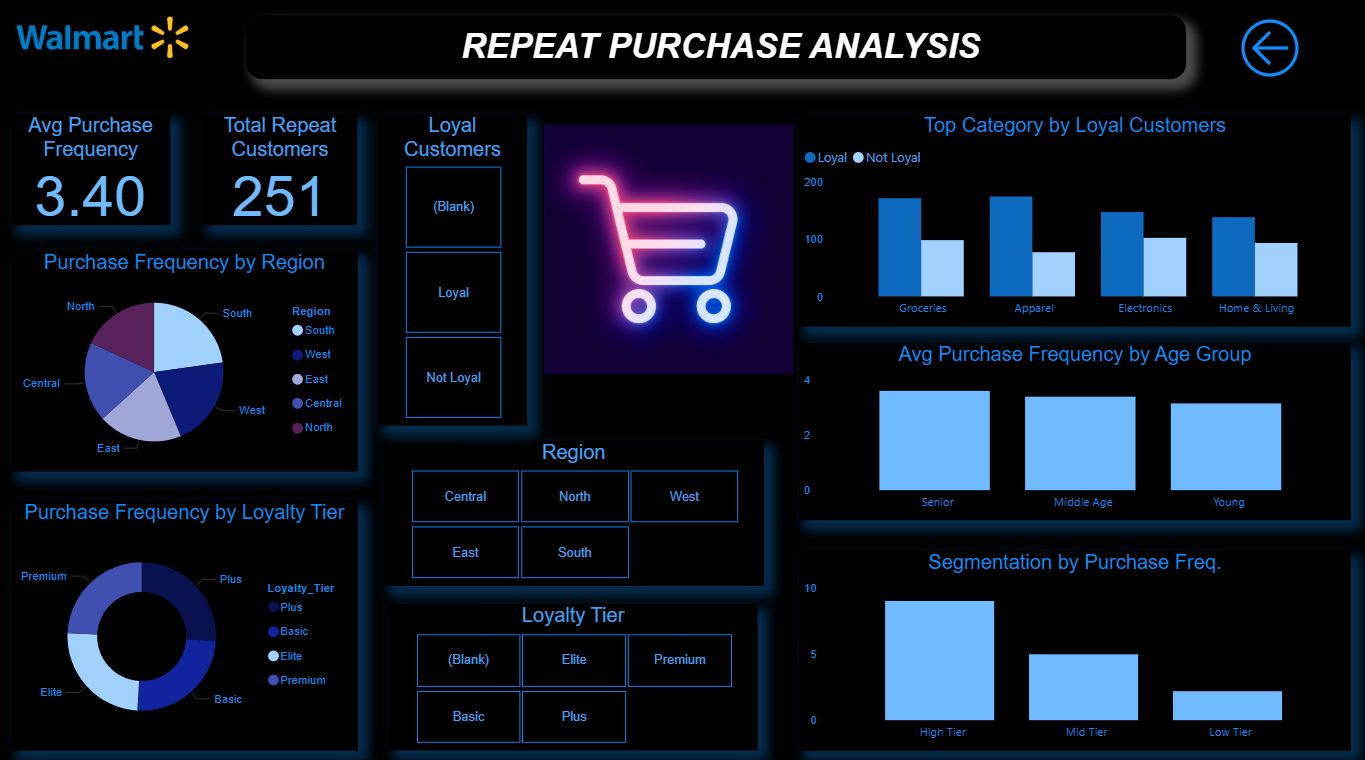

What the dashboard file says about the page in this screenshot:
{"tool":"powerbi","page":{"name":"Repeat  Purchase Analysis","canvas":[1280,720],"ordinal":2},"visuals":[{"type":"image","box":[15.1,11.6,169.8,59.3],"z":0},{"type":"actionButton","box":[1152.3,17.4,75.6,67.4],"z":1000},{"type":"image","box":[505.8,112.8,241.9,251.2],"z":2000},{"type":"pieChart","title":"Purchase Frequency by Region","fields":{"Y":["Calculation Store.Avg_Purchase_frequency"],"Category":["Store_Locations.Region"]},"box":[15.1,239.5,322.1,205.8],"z":3000},{"type":"clusteredColumnChart","title":"Avg Purchase Frequency by Age Group","fields":{"Y":["Calculation Store.Avg_Purchase_frequency"],"Category":["Customer_Demographics.Age Group "]},"box":[747.7,325.6,514,165.1],"z":4000},{"type":"donutChart","title":" Purchase Frequency by Loyalty Tier ","fields":{"Category":["Loyalty_Program.Loyalty_Tier"],"Y":["Calculation Store.Avg_Purchase_frequency"]},"box":[15.1,472.1,322.1,232.6],"z":5000},{"type":"clusteredColumnChart","title":"Top Category by Loyal Customers","fields":{"Category":["Customer_Transactions.Product_Category"],"Y":["CountNonNull(Customer_Transactions.Transaction_ID)"],"Series":["Transaction_count.Loyal_Customers "]},"box":[747.7,112.8,514,197.7],"z":6000},{"type":"card","title":"Total Repeat Customers","fields":{"Values":["Sum(Transaction_count.Repeated customers)"]},"box":[193,112.8,144.2,103.5],"z":7000},{"type":"card","title":"Avg Purchase Frequency ","fields":{"Values":["Calculation Store.Avg_Purchase_frequency"]},"box":[15.1,112.8,147.7,103.5],"z":8000},{"type":"clusteredColumnChart","title":"Segmentation by Purchase Freq.","fields":{"Y":["Calculation Store.Avg_Purchase_frequency"],"Category":["Transaction_count.Customer_segment"]},"box":[747.7,518.6,514,186],"z":9000},{"type":"textbox","box":[233.7,20.9,874.4,59.3],"z":10000},{"type":"slicer","title":"Region","fields":{"Values":["Store_Locations.Region"]},"box":[361.6,416.3,353.5,134.9],"z":11000},{"type":"slicer","title":"Loyalty Tier","fields":{"Values":["Loyalty_Program.Loyalty_Tier"]},"box":[366.3,568.6,343,136],"z":12000},{"type":"slicer","title":"Loyal Customers","fields":{"Values":["Transaction_count.Loyal_Customers "]},"box":[355.8,112.8,139.5,289.5],"z":13000}]}

Visuals, with their boxes in screenshot pixels (x1, y1, x2, y2), scaled from the page's 1280x720 canvas onto the 1365x760 screenshot:
image: select_region(16, 12, 197, 75)
actionButton: select_region(1229, 18, 1309, 90)
image: select_region(539, 119, 797, 384)
"Purchase Frequency by Region" pieChart: select_region(16, 253, 360, 470)
"Avg Purchase Frequency by Age Group" clusteredColumnChart: select_region(797, 344, 1345, 518)
" Purchase Frequency by Loyalty Tier " donutChart: select_region(16, 498, 360, 744)
"Top Category by Loyal Customers" clusteredColumnChart: select_region(797, 119, 1345, 328)
"Total Repeat Customers" card: select_region(206, 119, 360, 228)
"Avg Purchase Frequency " card: select_region(16, 119, 174, 228)
"Segmentation by Purchase Freq." clusteredColumnChart: select_region(797, 547, 1345, 744)
textbox: select_region(249, 22, 1182, 85)
"Region" slicer: select_region(386, 439, 763, 582)
"Loyalty Tier" slicer: select_region(391, 600, 756, 744)
"Loyal Customers" slicer: select_region(379, 119, 528, 425)
